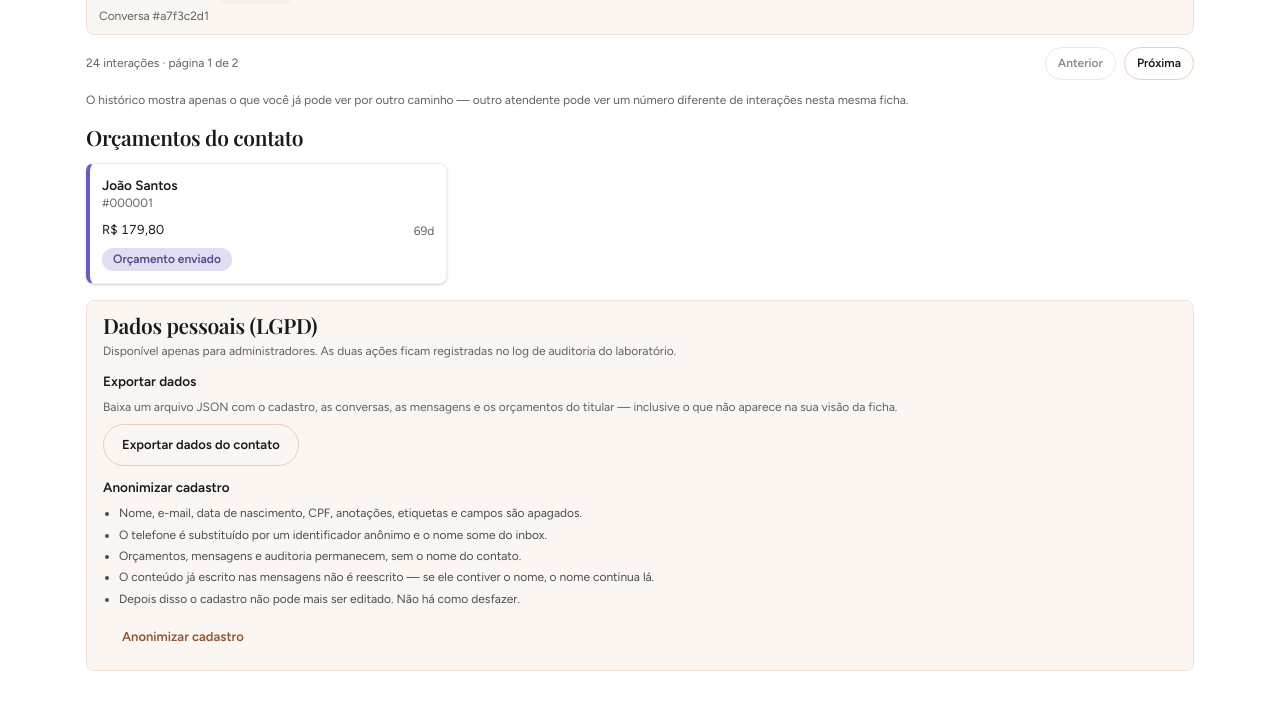
Test: Ficha do Paciente › escreve na tela a consequência irreversível antes de confirmar
(page scrolled)
Expected: the list item "Depois disso o cadastro não pode mais ser editado" is shown, x1=119 y1=592 x2=520 y2=606
Step 1. Click the button "Anonimizar cadastro" → (183, 637), box x1=103 y1=616 x2=263 y2=658
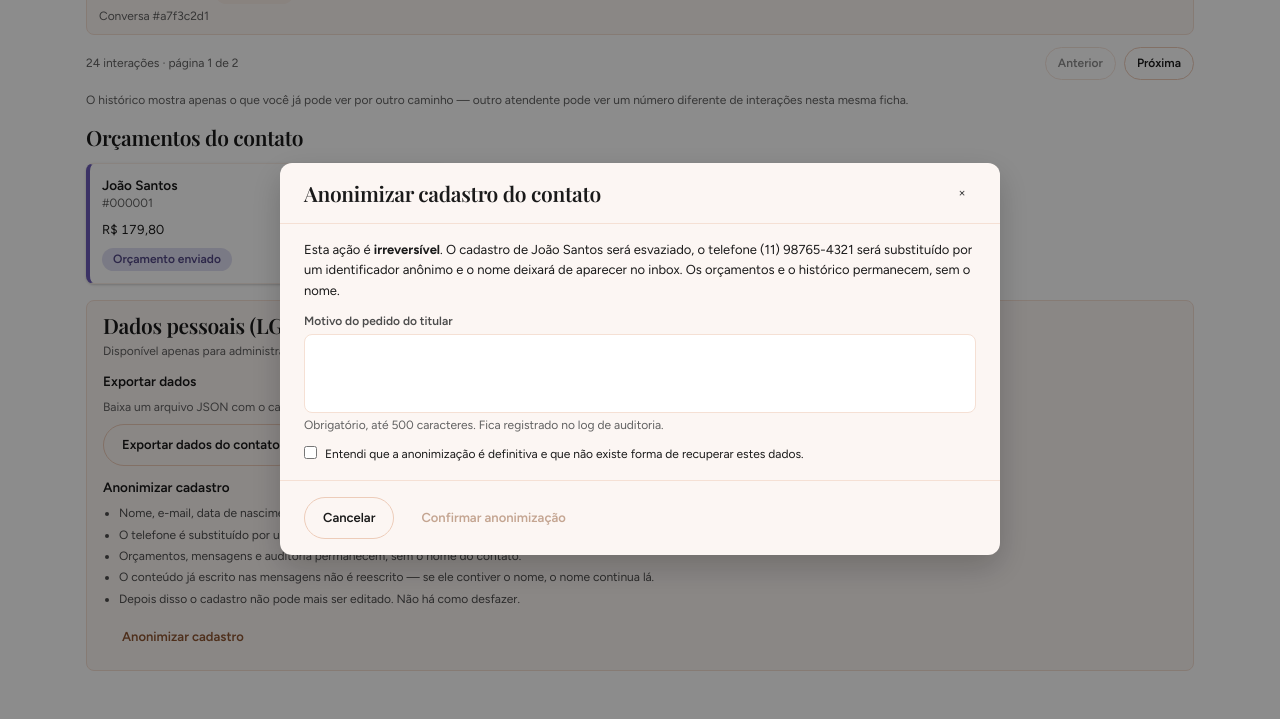
Now the text "irreversível" is shown, box x1=374 y1=242 x2=440 y2=257
